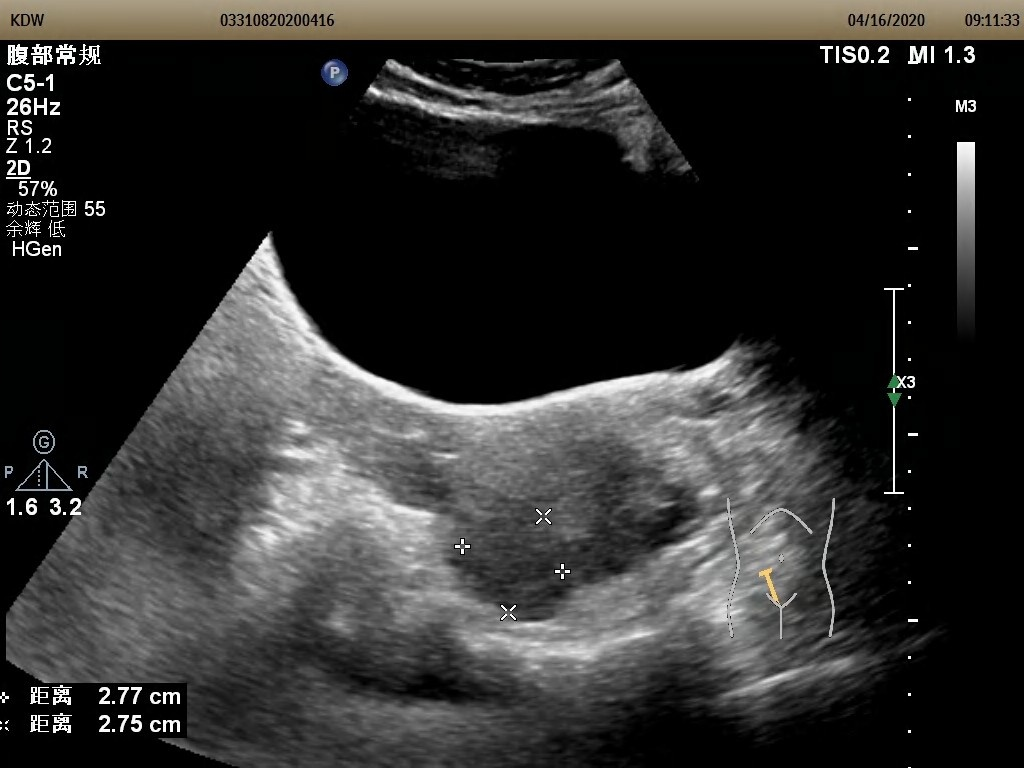肌瘤: (459, 515, 563, 613)
